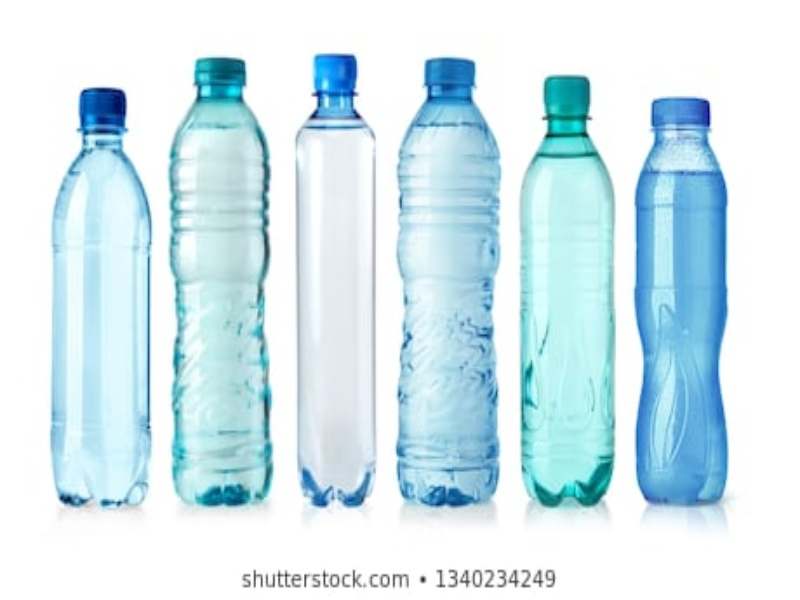bottle-cap: (539, 74, 592, 116), (306, 54, 364, 91), (646, 97, 711, 129), (73, 88, 129, 125), (419, 59, 480, 88), (190, 58, 250, 87)
plastic-bottle: (167, 56, 283, 507), (394, 56, 502, 509), (46, 85, 157, 508), (516, 67, 619, 510), (633, 95, 733, 510), (291, 51, 382, 503)
